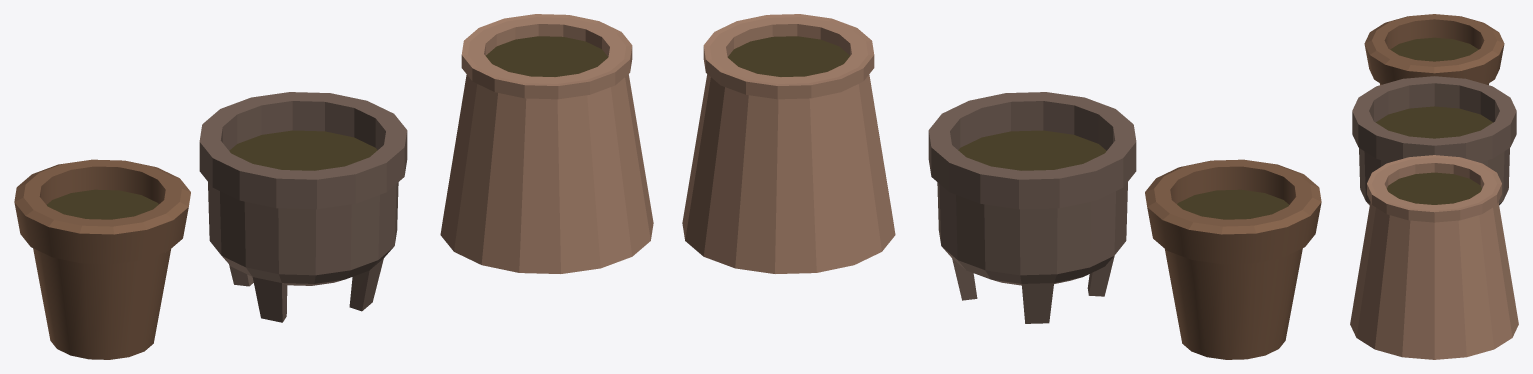
File: planters_coloured.fbx
3 renders of one model, left to right at view 1: azimuth 30°, elevation 25°; view 2: azimuth 150°, elevation 25°; view 3: azimuth 270°, elevation 25°, orthographic. The views are drawn at different scales.
Visible parts, largest first — view 1: pCylinder3, pCylinder2, pCylinder1; view 2: pCylinder3, pCylinder2, pCylinder1; view 3: pCylinder3, pCylinder2, pCylinder1.
Part boxes in pixels (left/top/right/bottom): pCylinder3: left=440, top=14, right=653, bottom=273; pCylinder2: left=199, top=92, right=407, bottom=322; pCylinder1: left=14, top=159, right=190, bottom=359; pCylinder3: left=682, top=14, right=895, bottom=273; pCylinder2: left=928, top=92, right=1136, bottom=323; pCylinder1: left=1145, top=159, right=1321, bottom=359; pCylinder3: left=1350, top=155, right=1518, bottom=359; pCylinder2: left=1352, top=76, right=1516, bottom=205; pCylinder1: left=1364, top=14, right=1504, bottom=84.
Size of the model in its own units: 8.89 by 2.54 by 2.69.
